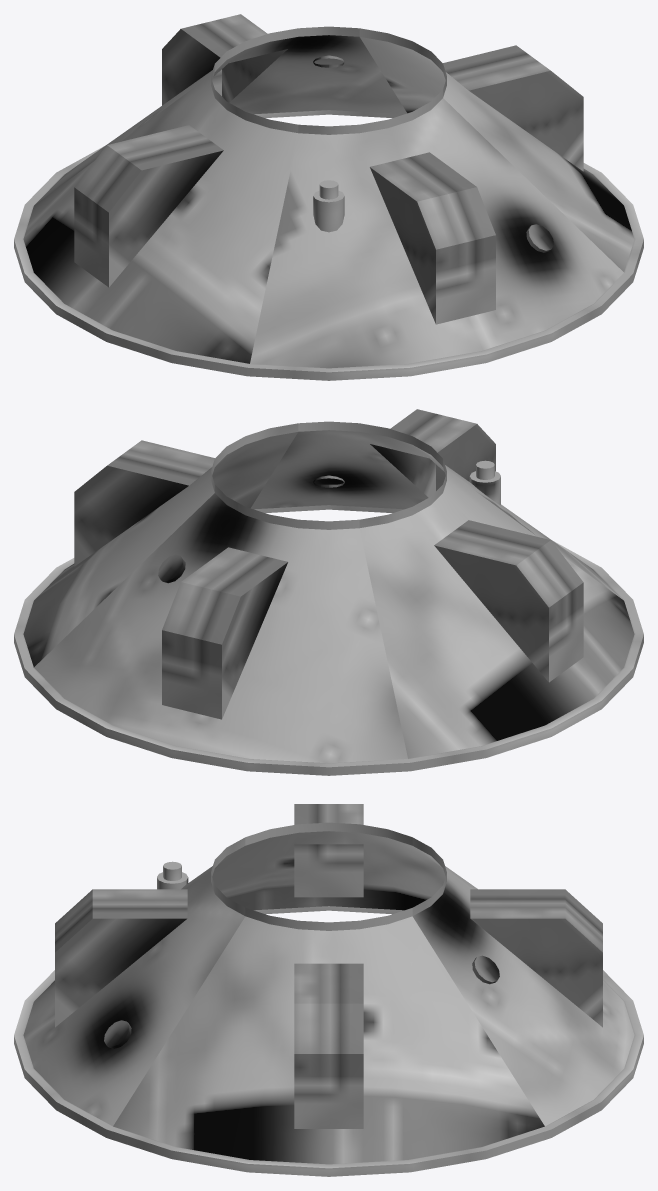
File: tug.fbx
The picture shows the model from 3 angles, top to bottom: view 1: azimuth 30°, elevation 25°; view 2: azimuth 150°, elevation 25°; view 3: azimuth 270°, elevation 25°; orthographic projection.
Visible parts, largest first — view 1: mesh; view 2: mesh; view 3: mesh.
Part boxes in pixels (box(x1,y1,x2,y2)): mesh: box(14, 14, 643, 380); mesh: box(14, 409, 643, 775); mesh: box(14, 804, 643, 1176).
Size of the model in its own units: 2.5 by 0.75 by 2.5.
